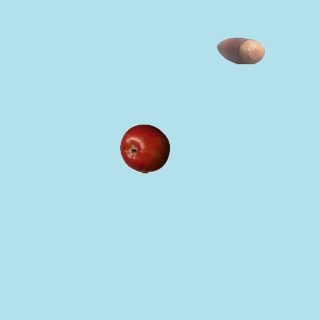Apple Braeburn: (119, 123, 169, 173)
Hazelnut: (215, 25, 265, 75)
